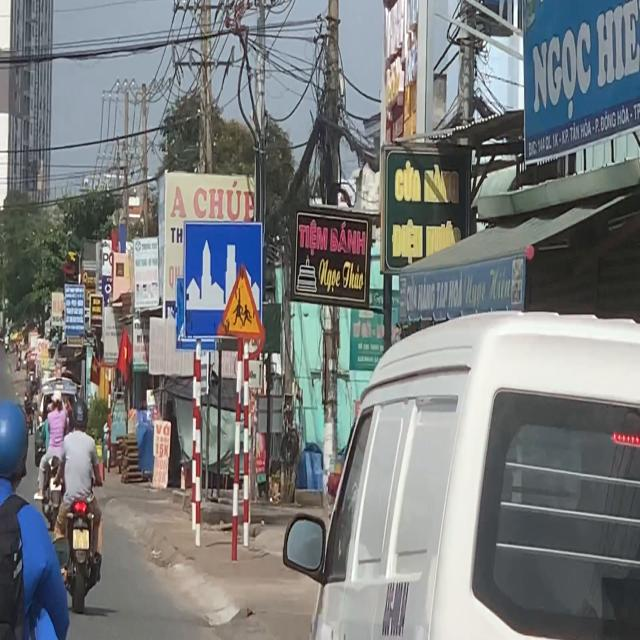Nguy hiem: (217, 264, 265, 340)
